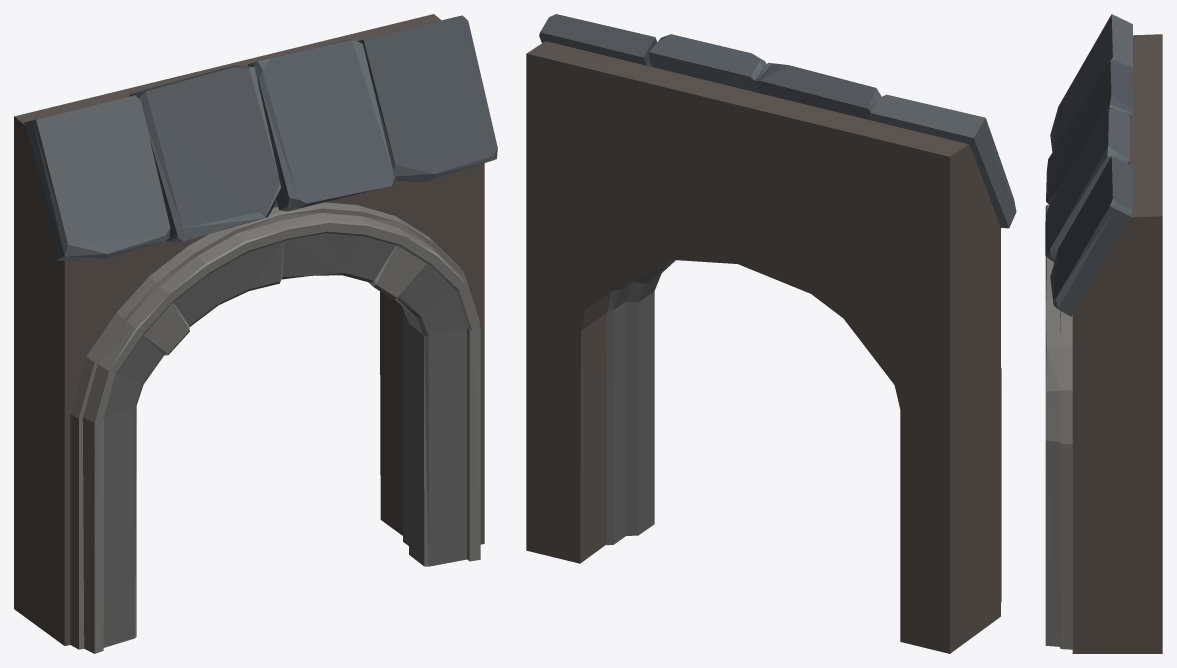
Rendered from MCastle_ArchDoors_06.FBX.
3 views of the same model, side by side, from view 1: azimuth 30°, elevation 25°; view 2: azimuth 150°, elevation 25°; view 3: azimuth 270°, elevation 25° (orthographic). The views are drawn at different scales.
Visible parts, largest first — view 1: MCastle_ArchDoors_06_LOD0; view 2: MCastle_ArchDoors_06_LOD0; view 3: MCastle_ArchDoors_06_LOD0.
Boxes of the visible parts, left/top/right/bottom form: MCastle_ArchDoors_06_LOD0: left=14, top=14, right=497, bottom=653; MCastle_ArchDoors_06_LOD0: left=526, top=14, right=1016, bottom=653; MCastle_ArchDoors_06_LOD0: left=1045, top=14, right=1162, bottom=653.
Size of what is drawn, in the model's own units: 4.15 by 4.73 by 1.09.
